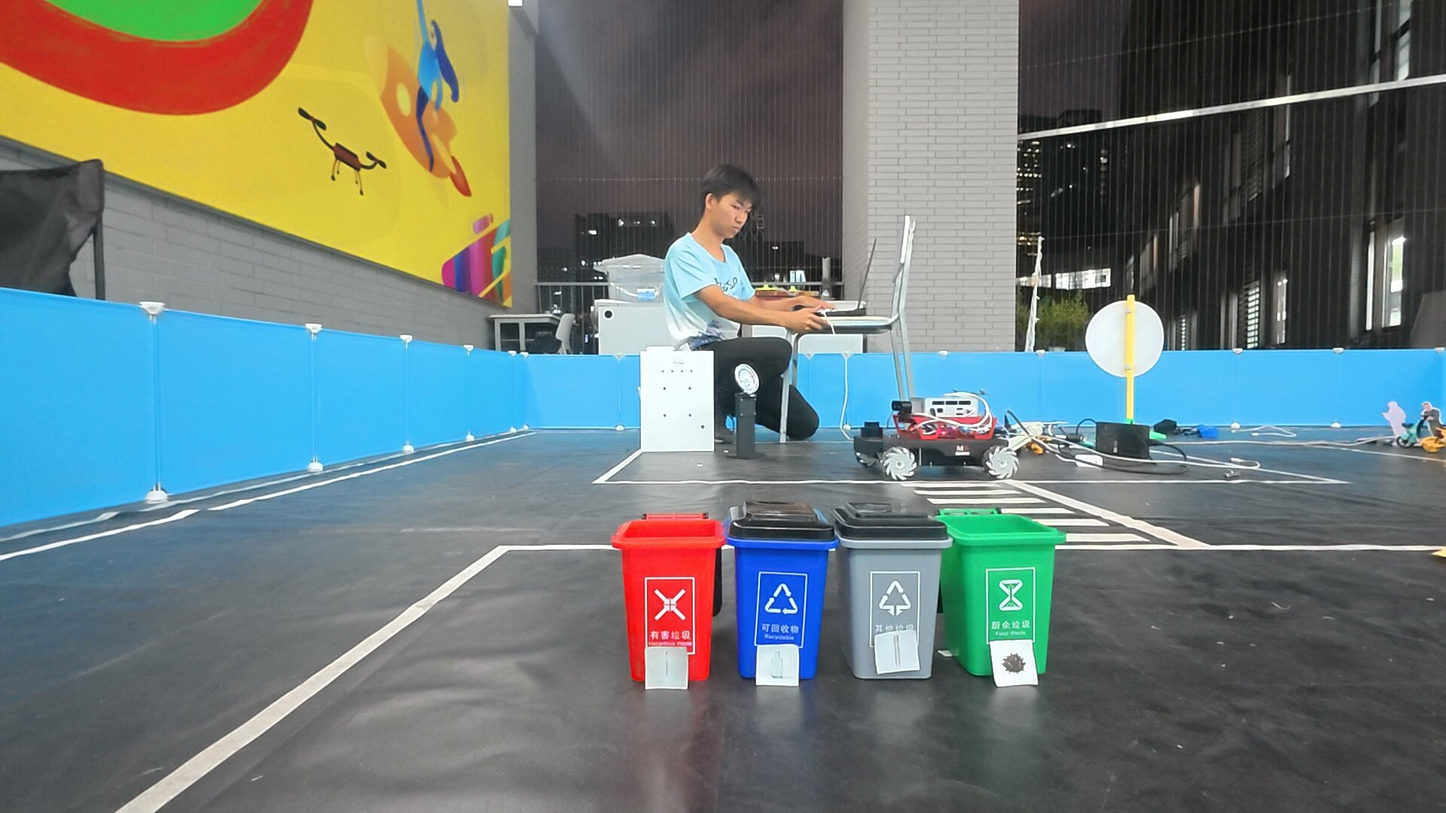food_trash: (993, 643, 1033, 683)
hazardous_trash: (648, 649, 687, 686)
other_trash: (877, 637, 912, 668)
recyclable_trash: (760, 647, 796, 683)
